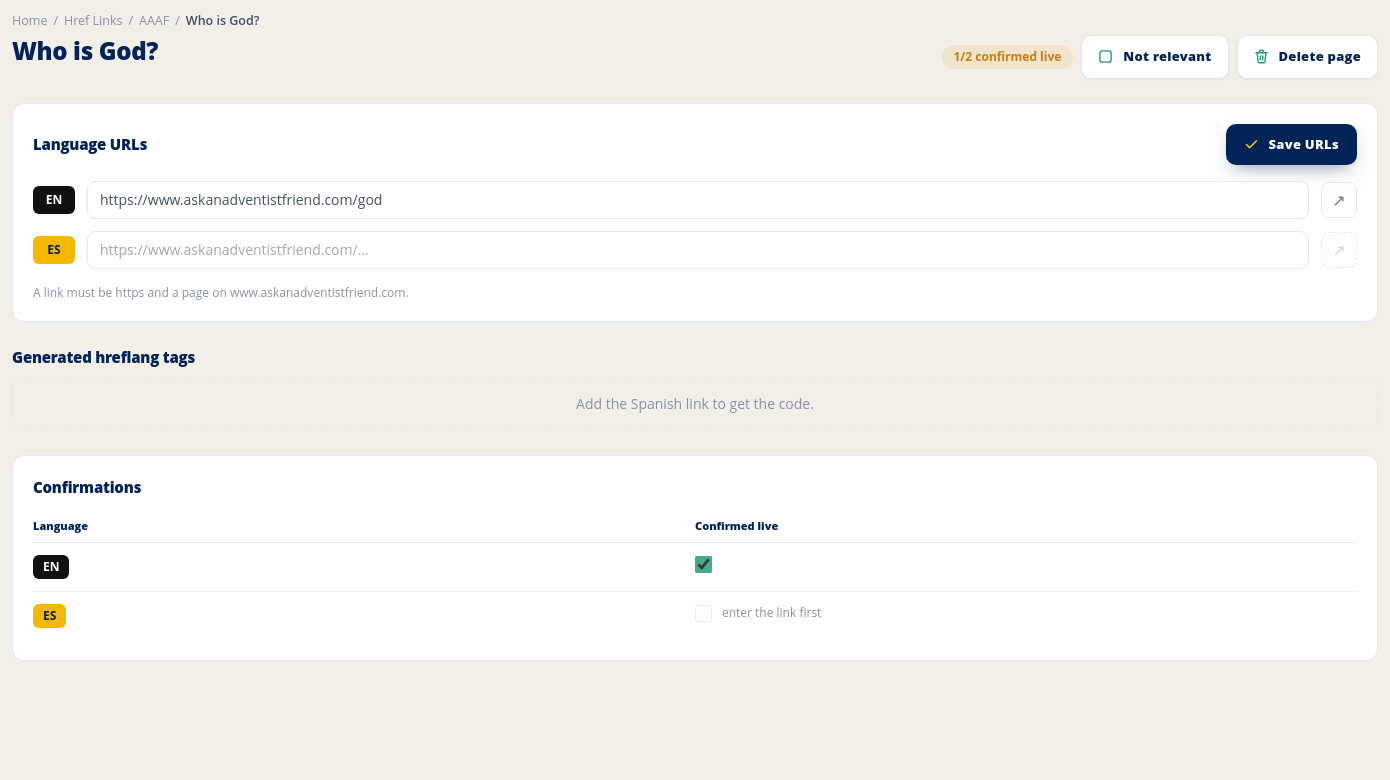
Test: PageDetail (audit, 10 October 2026) › shows why a link was refused under its field and keeps what was typed
This screenshot has width=1390, height=780.
In the field named "Spanish link": (698, 250) [87, 231, 1309, 269], type "https://elsewhere.com/x"
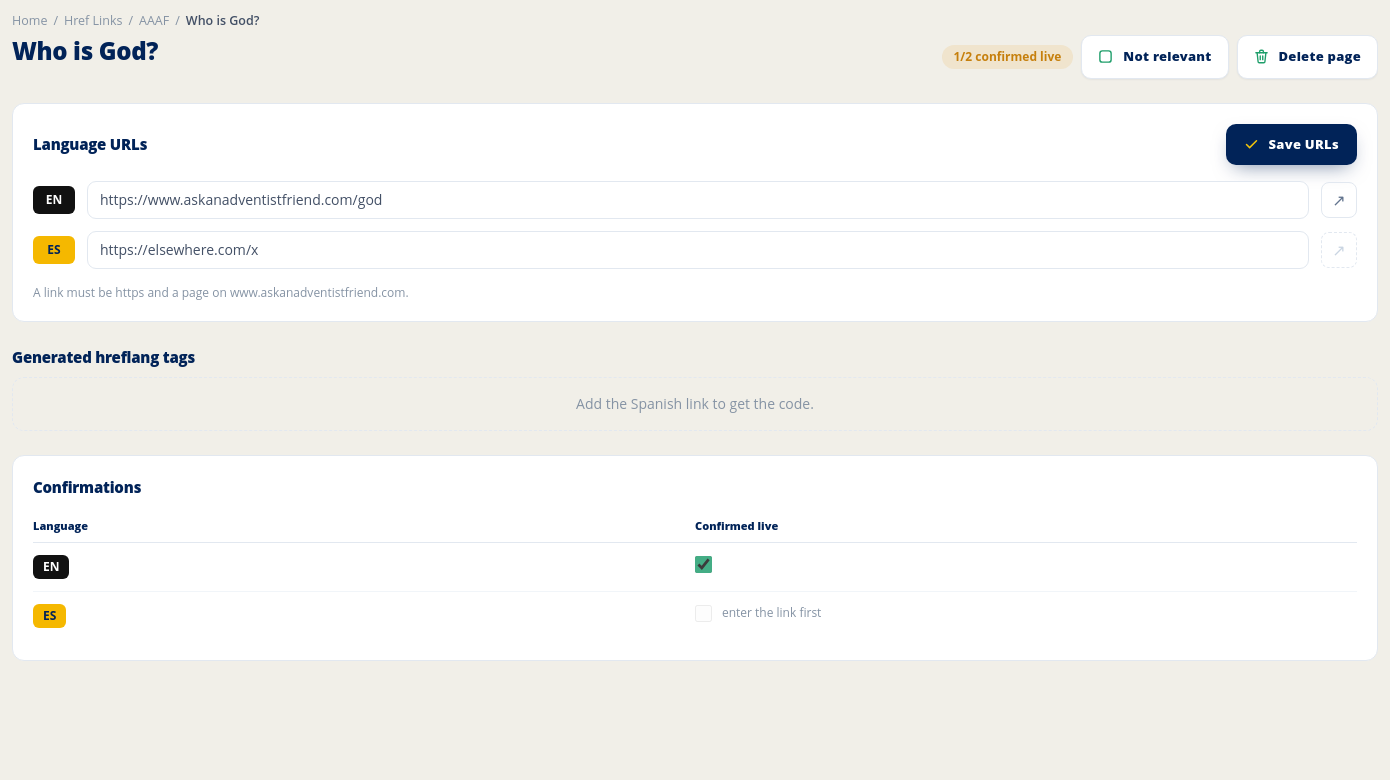
Click the button "Save URLs": (1291, 144) [1226, 124, 1357, 165]
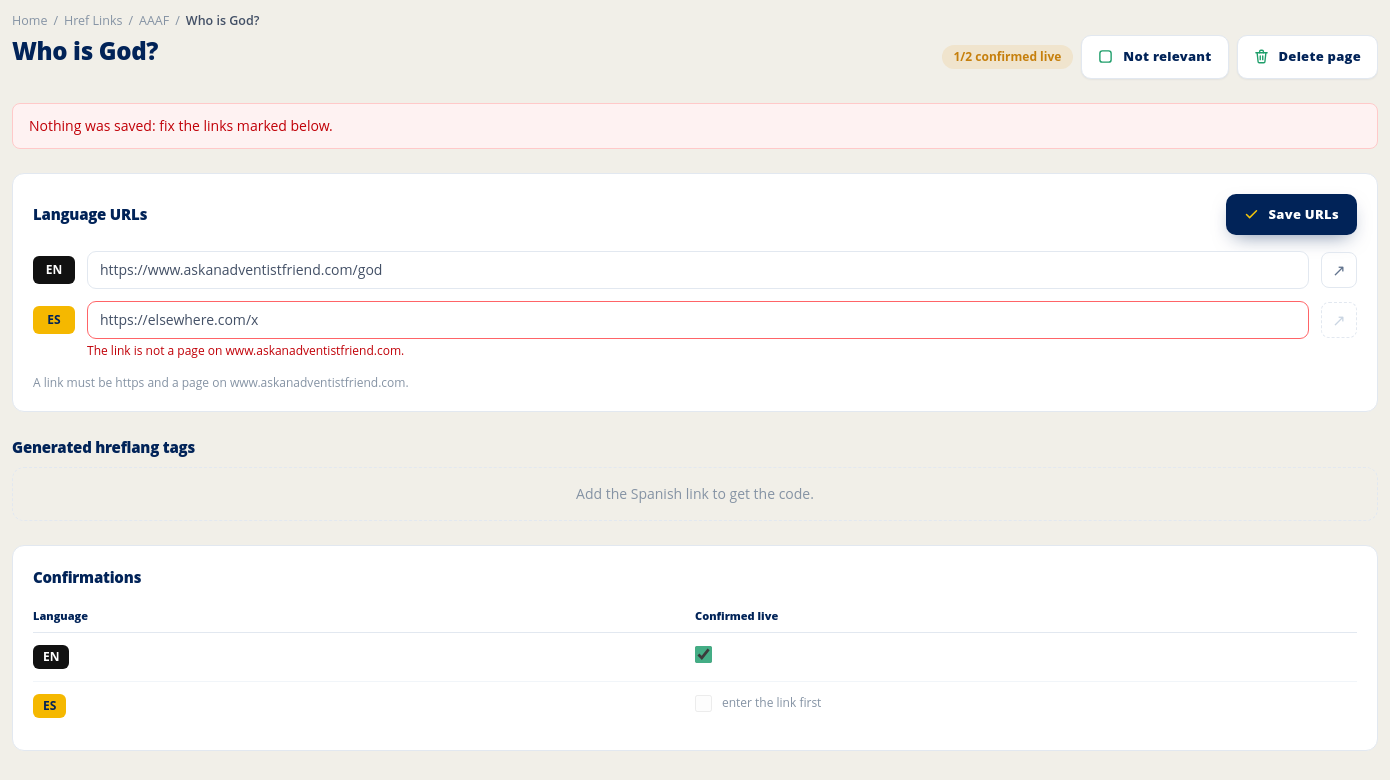
Expected: the text "The link is not a page on www.askanadventistfriend.com." is shown, [87, 342, 404, 359]
